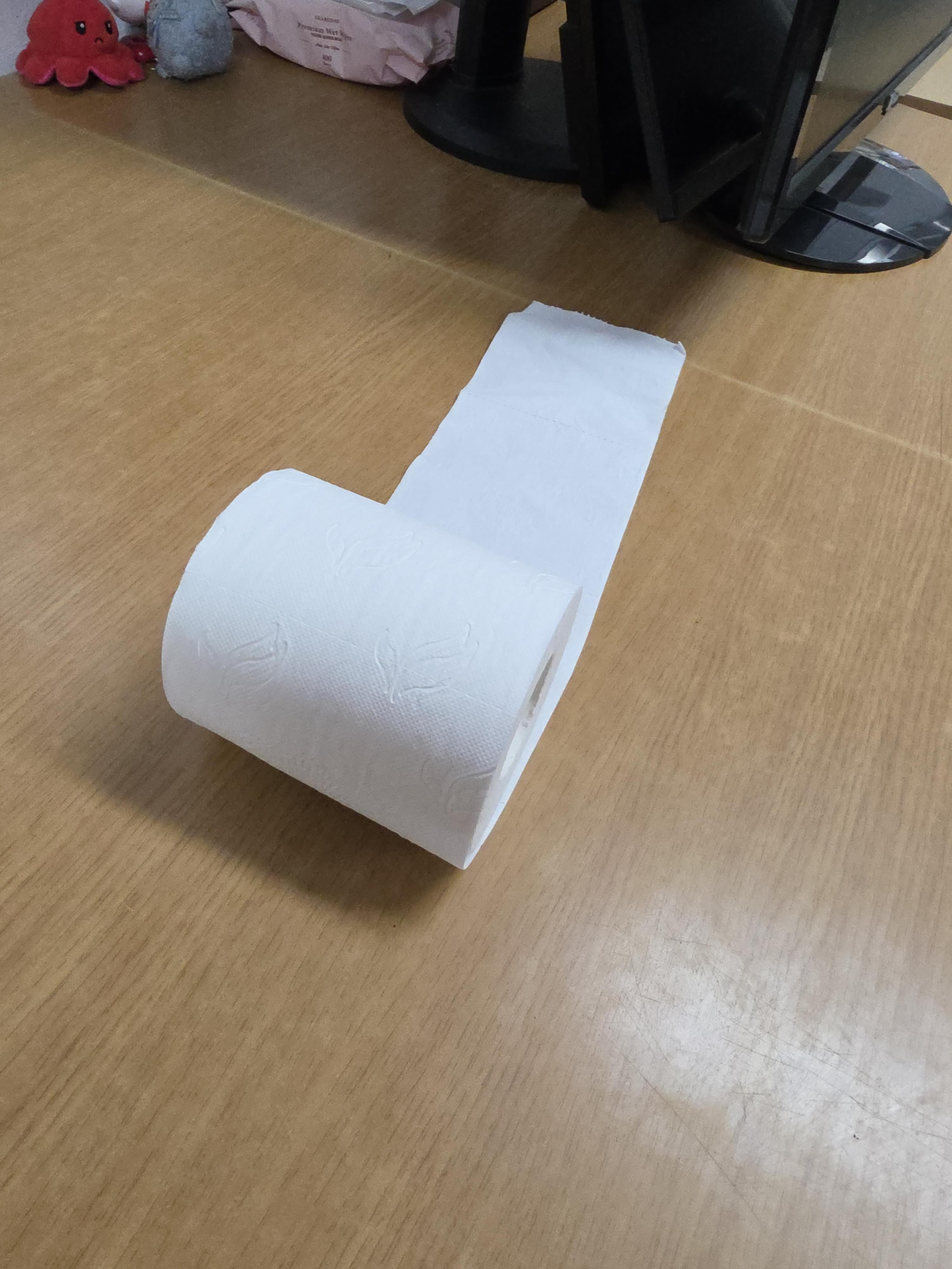tissue: (161, 300, 687, 870)
